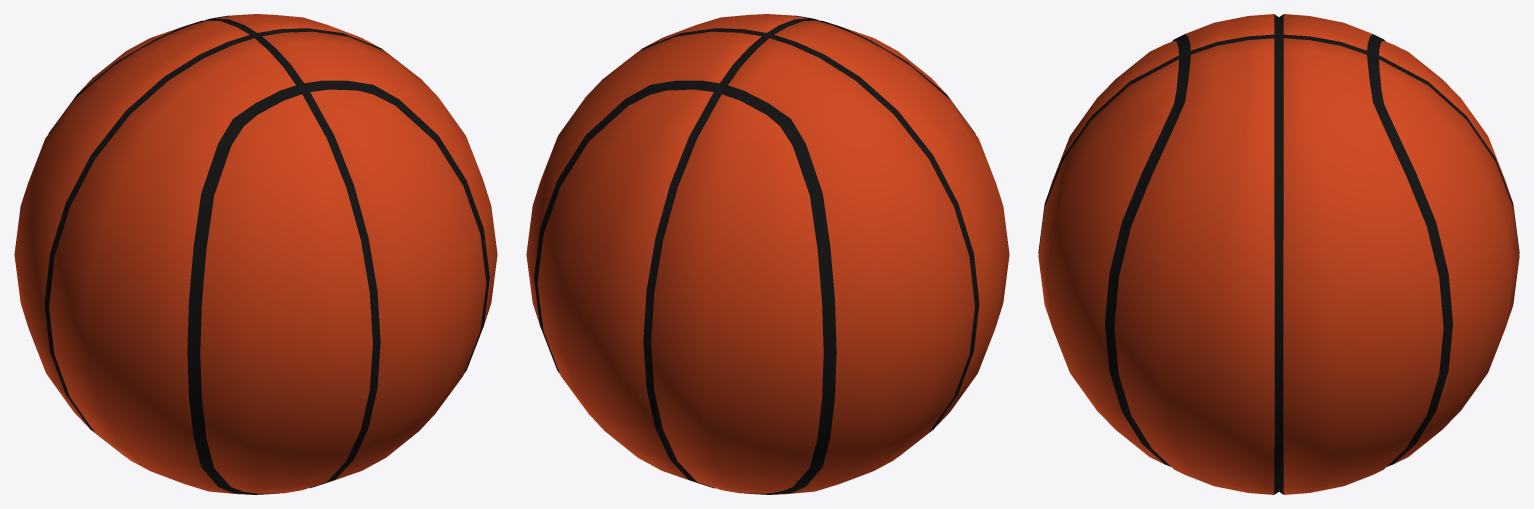
The model's file is Basketball.obj.
3 renders of one model, left to right at view 1: azimuth 30°, elevation 25°; view 2: azimuth 150°, elevation 25°; view 3: azimuth 270°, elevation 25°, orthographic.
Visible parts, largest first — view 1: Basketball; view 2: Basketball; view 3: Basketball.
Boxes of the visible parts, bbox=[...] form: Basketball: bbox=[14, 14, 497, 494]; Basketball: bbox=[526, 14, 1009, 494]; Basketball: bbox=[1038, 14, 1519, 494].
Size of the model in its own units: 100 by 100 by 100.
